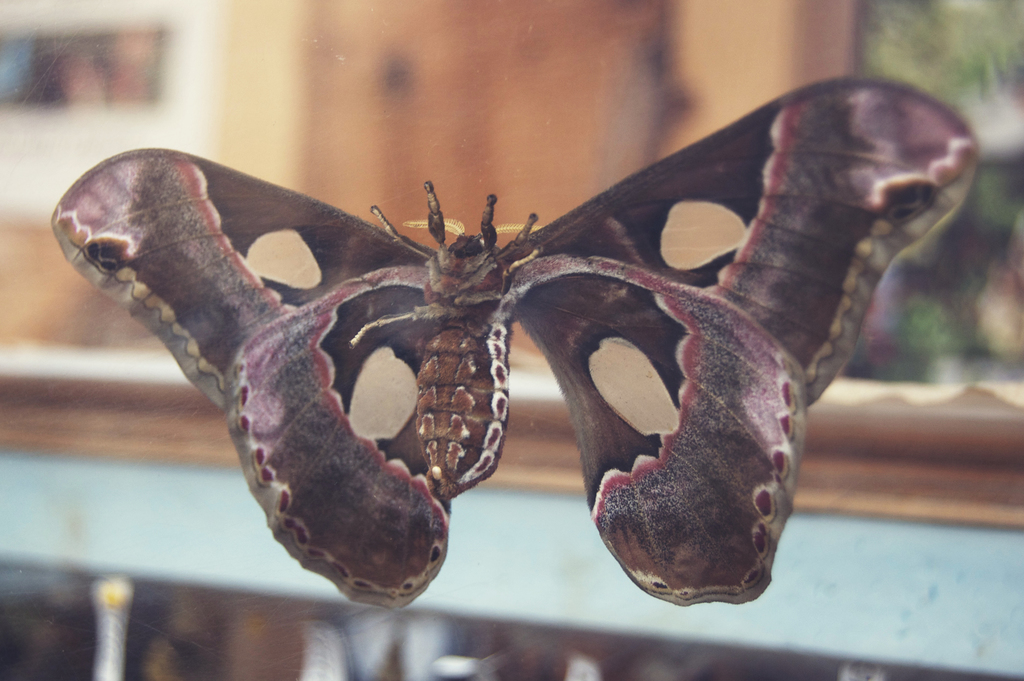Butterfly: (45, 87, 1015, 633)
